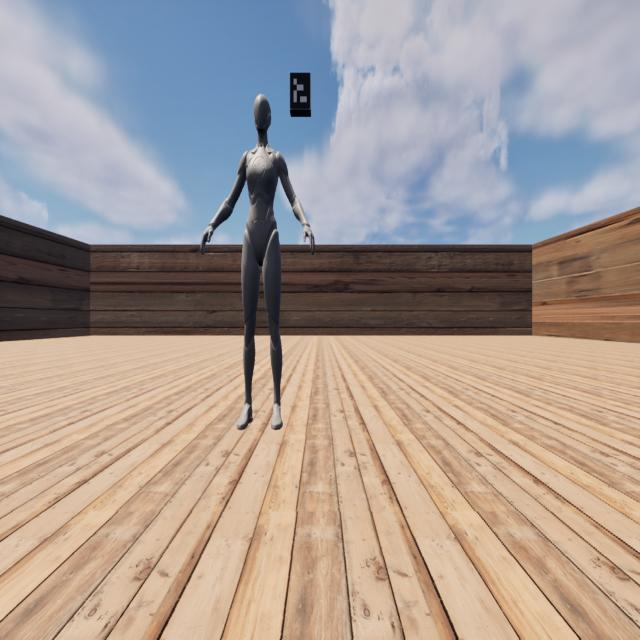aruco: (290, 72, 311, 110)
hip: (243, 230, 279, 244)
